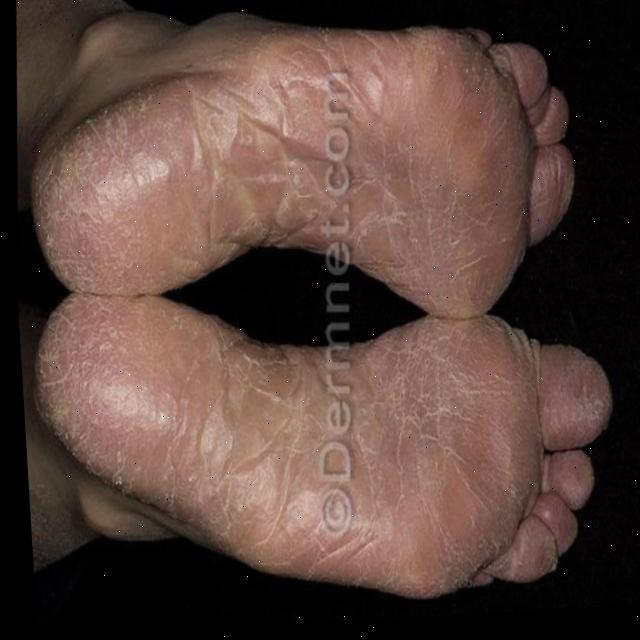Eczema: (27, 268, 541, 586), (20, 17, 528, 313)
